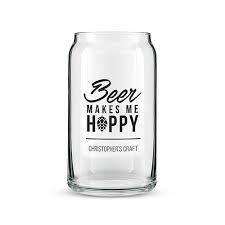beer: (68, 32, 160, 197)
